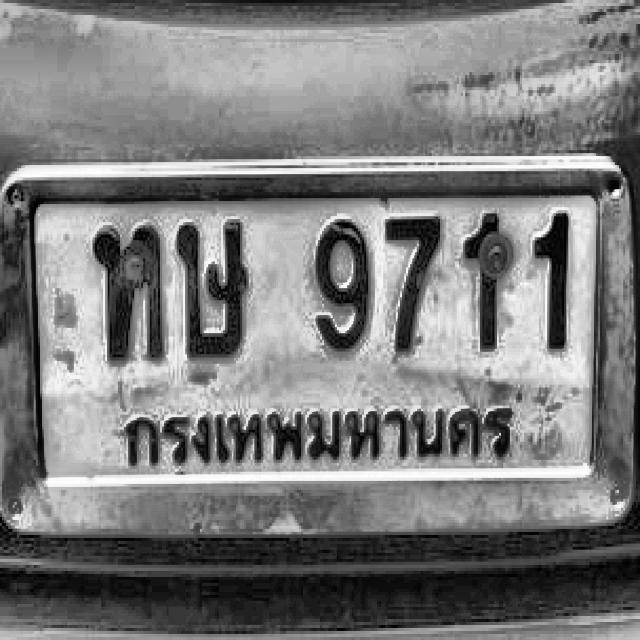license-plate: (0, 149, 640, 551)
